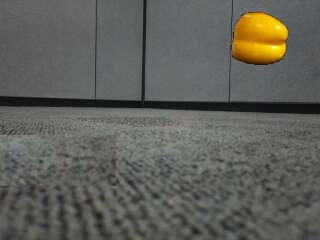Capsicum: (232, 12, 288, 66)
